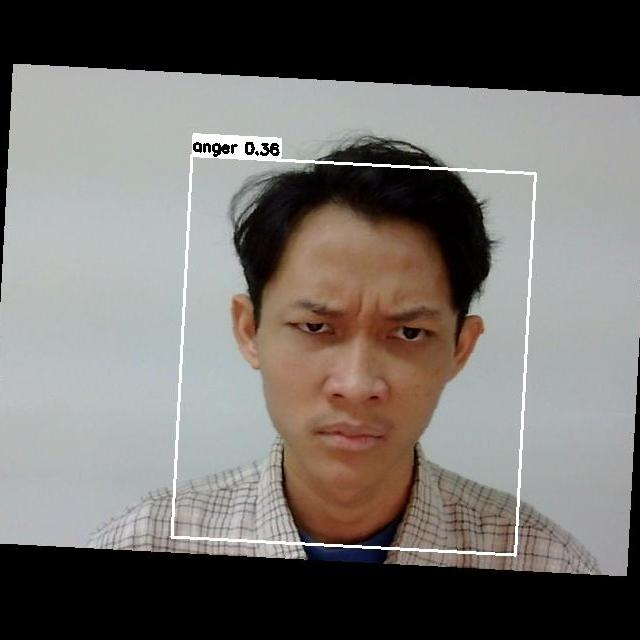Angry: (251, 270, 465, 470)
